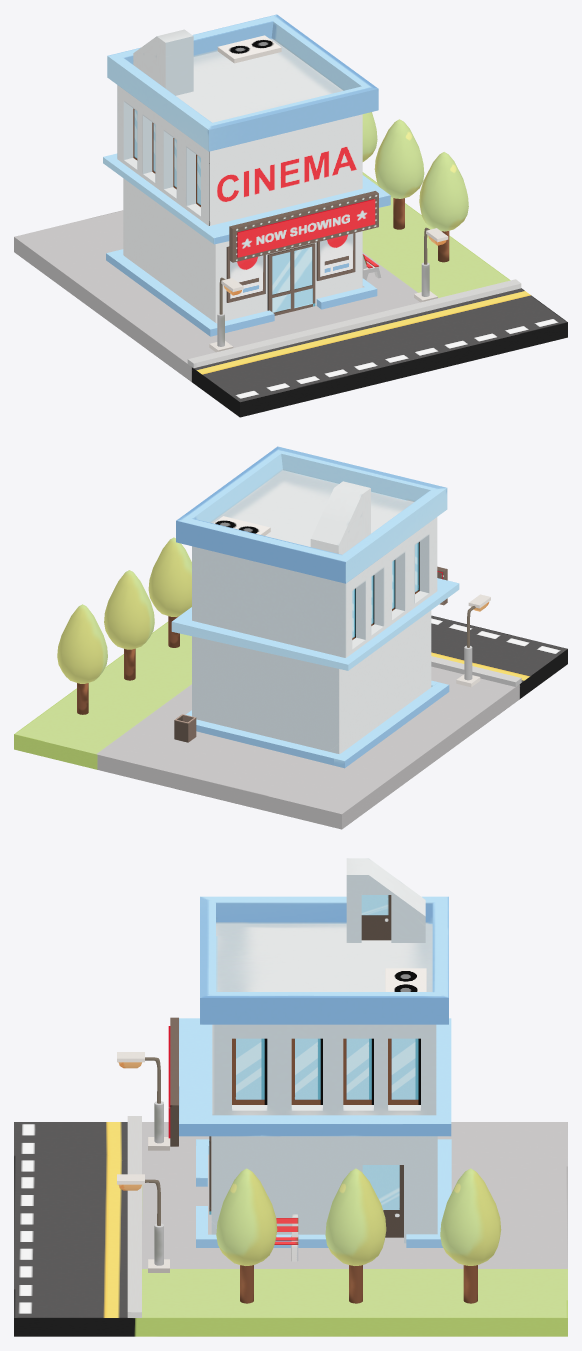
Rendered from cinema.gltf.
The picture shows the model from 3 angles, top to bottom: view 1: azimuth 30°, elevation 25°; view 2: azimuth 150°, elevation 25°; view 3: azimuth 270°, elevation 25°; orthographic projection. The views are drawn at different scales.
Visible parts, largest first — view 1: Cinema_Asset; view 2: Cinema_Asset; view 3: Cinema_Asset.
Part boxes in pixels (bbox=[...]): Cinema_Asset: bbox=[14, 14, 567, 417]; Cinema_Asset: bbox=[14, 446, 567, 829]; Cinema_Asset: bbox=[14, 858, 567, 1336].
Size of the model in its own units: 7.67 by 5.82 by 9.15.
Materials: 1 (1 with a texture image).
